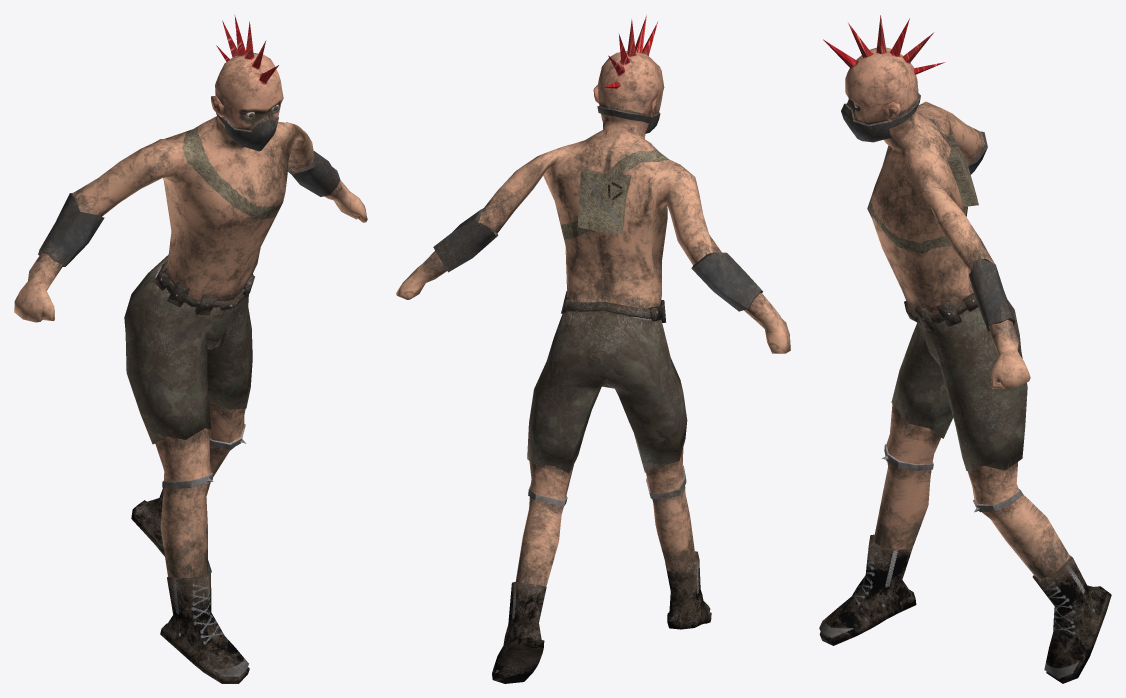
The model's file is Anim_arma_c_npc2.0034.obj.
The picture shows the model from 3 angles, left to right: view 1: azimuth 30°, elevation 25°; view 2: azimuth 150°, elevation 25°; view 3: azimuth 270°, elevation 25°; orthographic projection. The views are drawn at different scales.
Parts seen in each view (by area): view 1: polySurface1; view 2: polySurface1; view 3: polySurface1.
Part boxes in pixels (box(x1,y1,x2,y2)): polySurface1: box(14, 15, 367, 683); polySurface1: box(396, 14, 790, 683); polySurface1: box(819, 15, 1111, 683).
Size of the model in its own units: 6.35 by 10.28 by 4.2.
